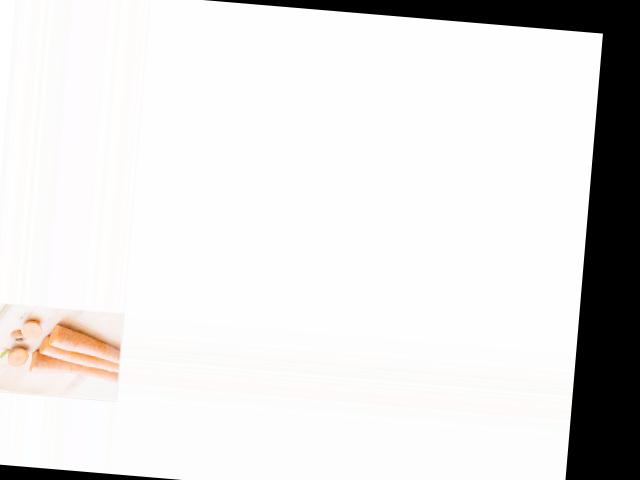carrot: (39, 323, 124, 358)
